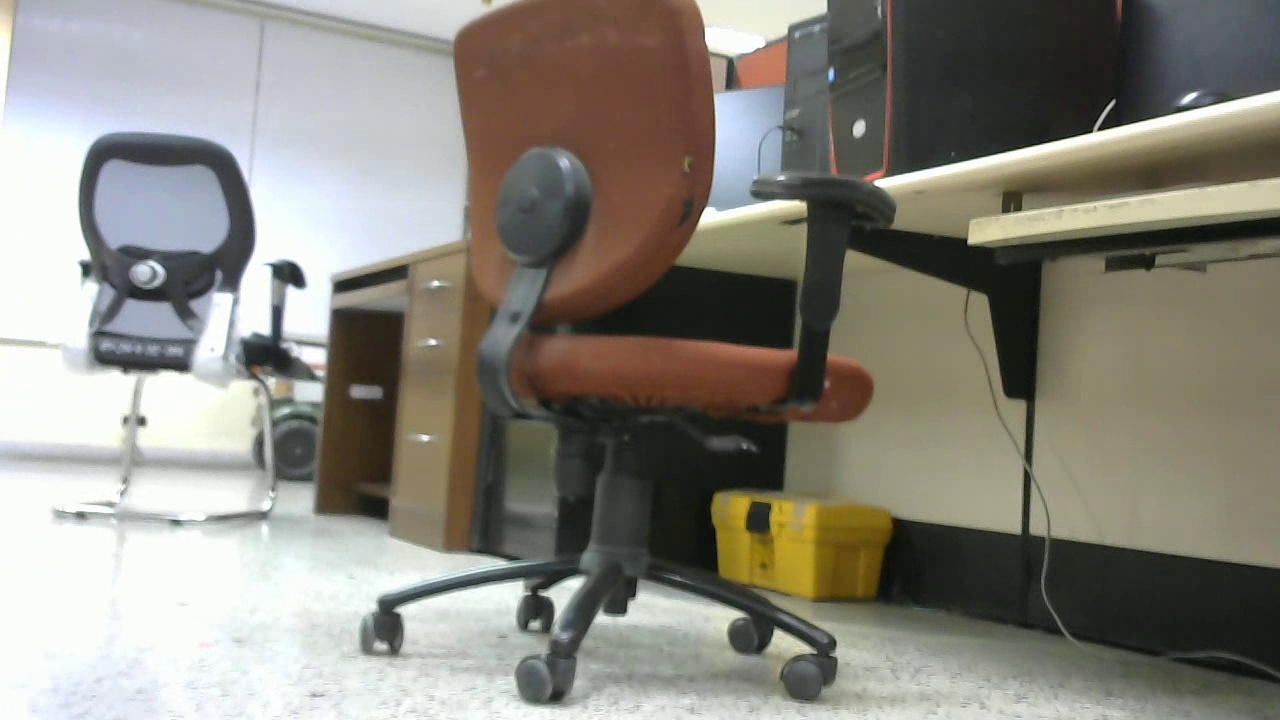chair: (351, 9, 835, 701), (41, 113, 317, 544)
